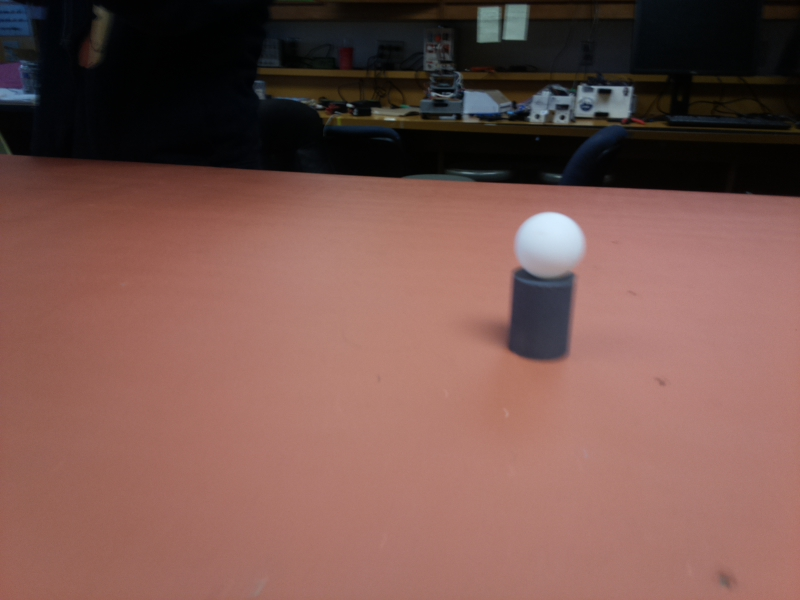obstacle: (507, 209, 590, 360)
